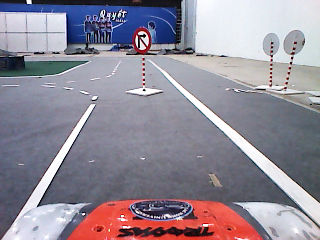ban: (131, 27, 152, 55)
